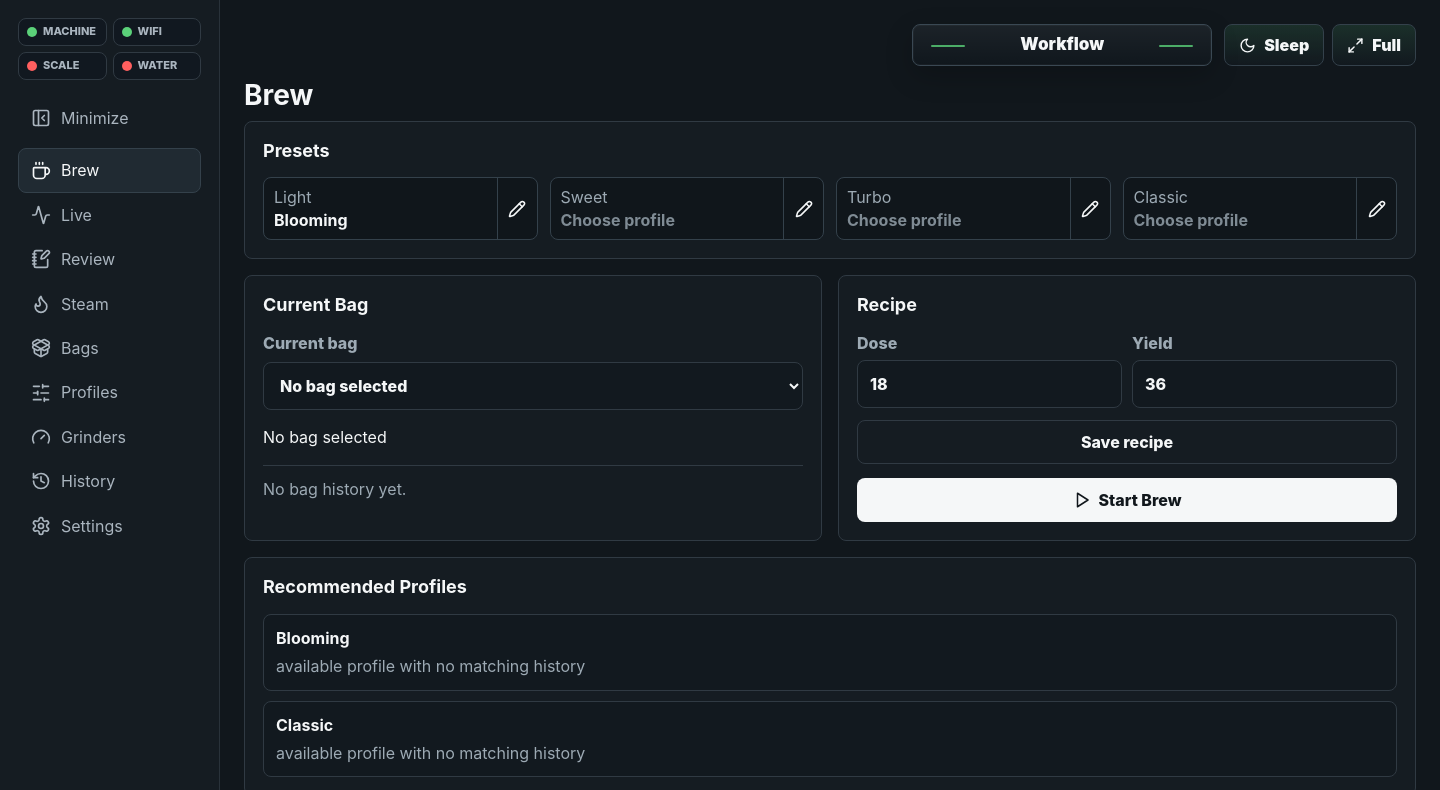
Scenario: App shell › creates an editable copy when saving a default profile is rejected
This screenshot has width=1440, height=790.
Click the button "Profiles". click: (110, 392)
box: [18,370,201,415]
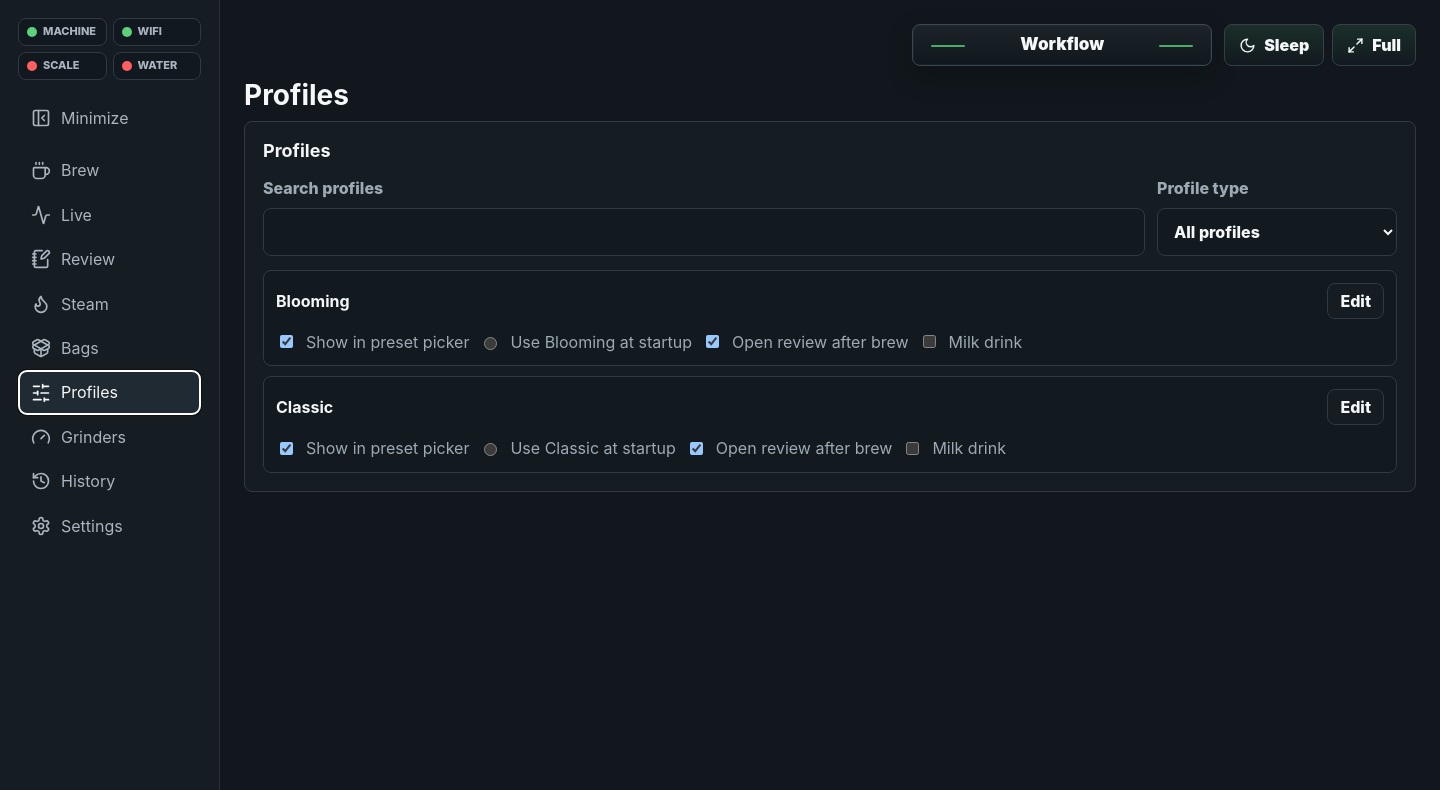
Click the button with aria-label "Edit Blooming". click: (1356, 301)
box: [1327,283,1384,319]
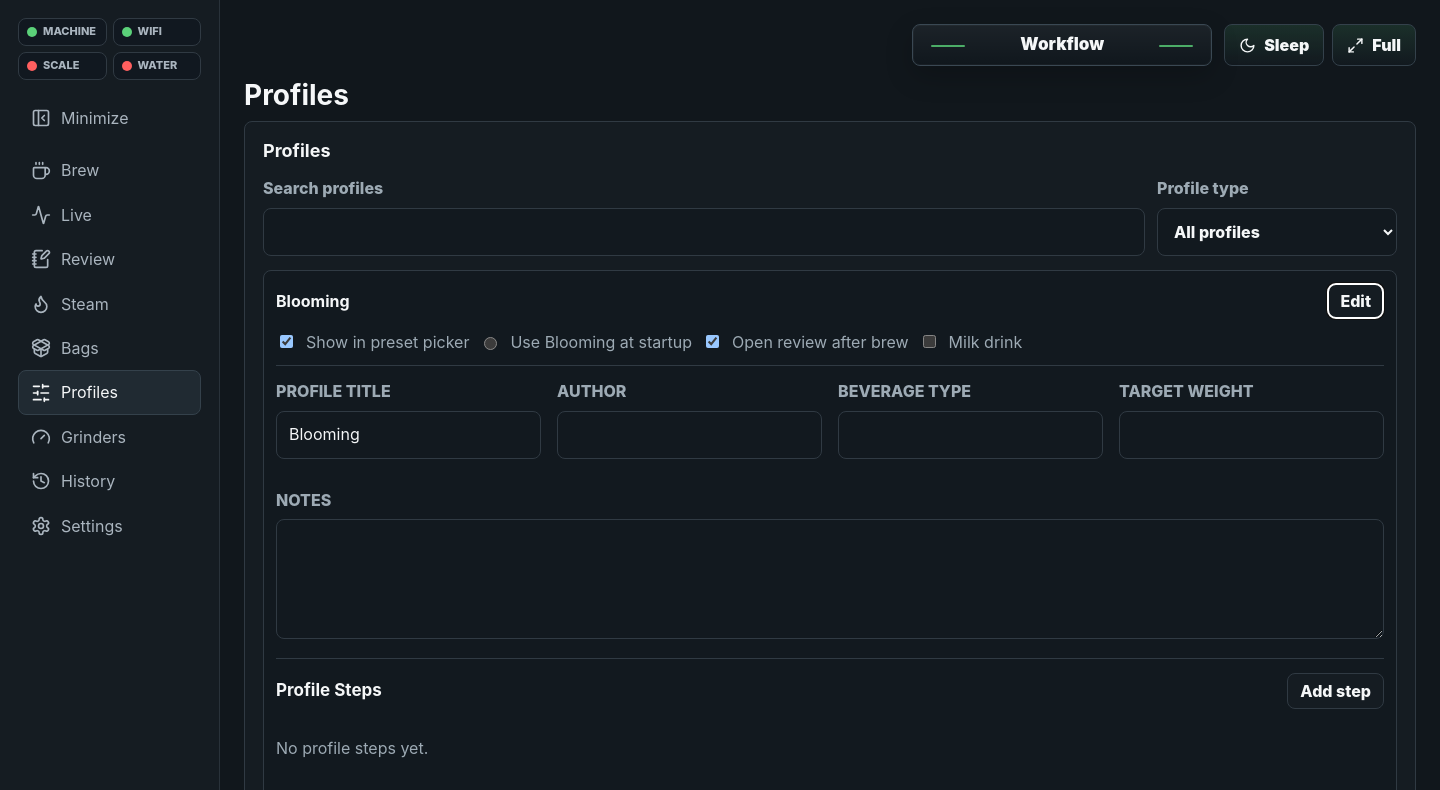
Replace the text in the field labelled "Profile title" with "Blooming Copy". click: (408, 435)
box: [276,411,541,459]
(page scrolled)
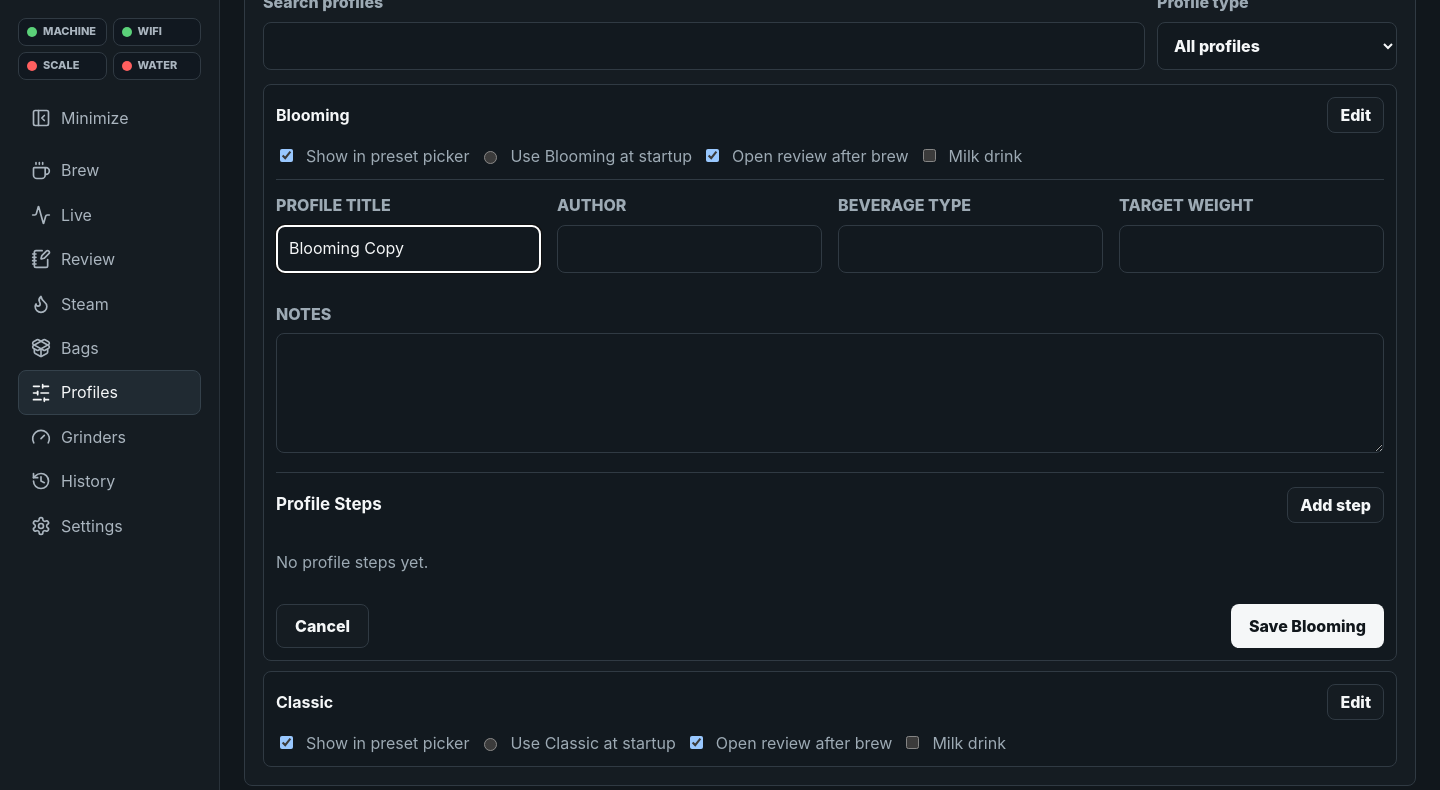
Click the button "Save Blooming". click: (1307, 626)
box: [1231,604,1384,648]
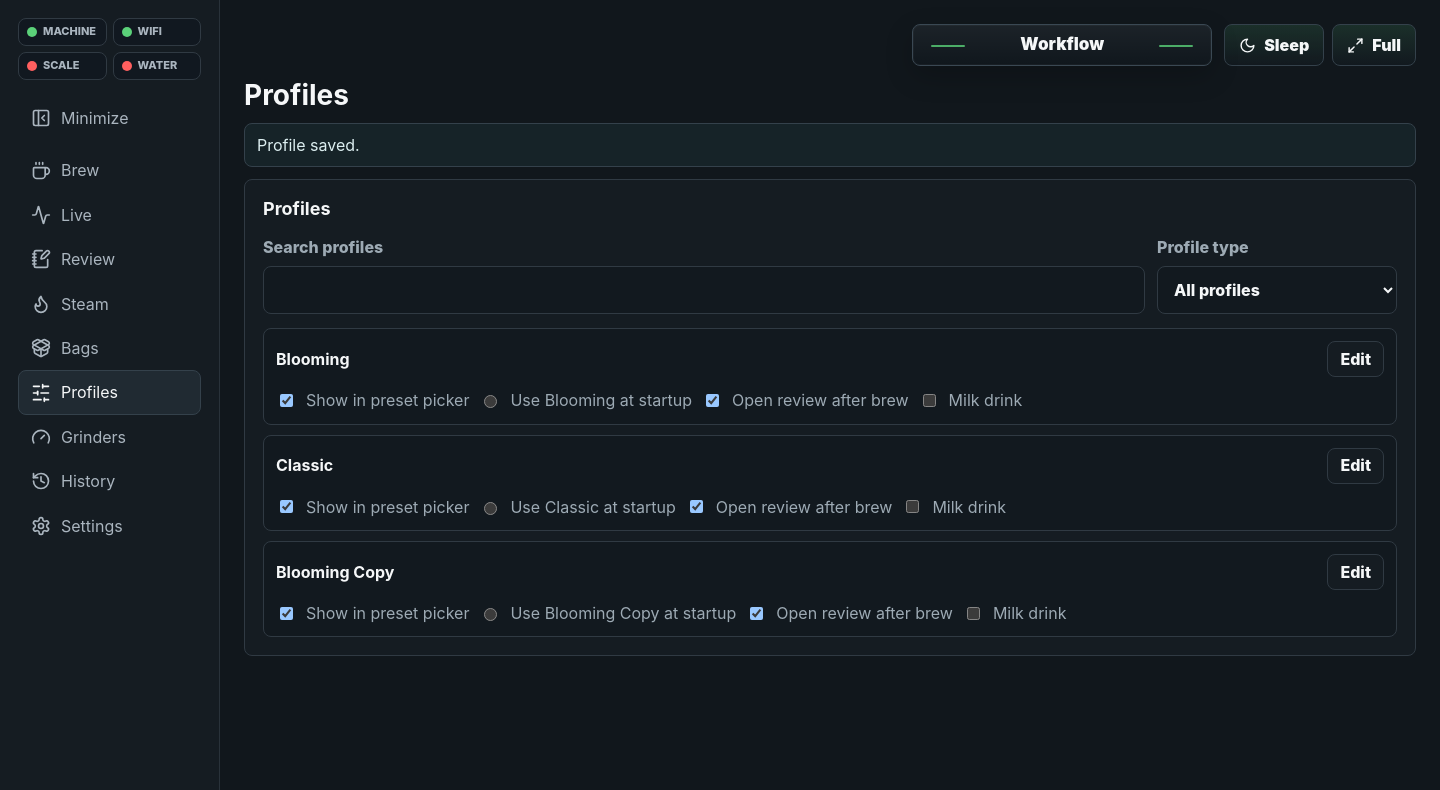
Now the message reads "Profile saved.", box [257,135,360,155]
